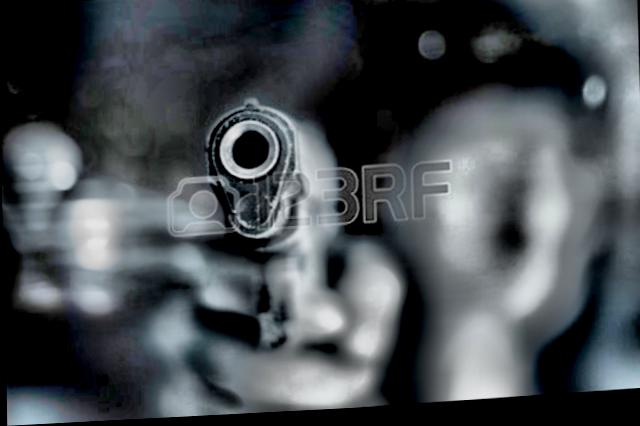pistol: (195, 91, 325, 360)
